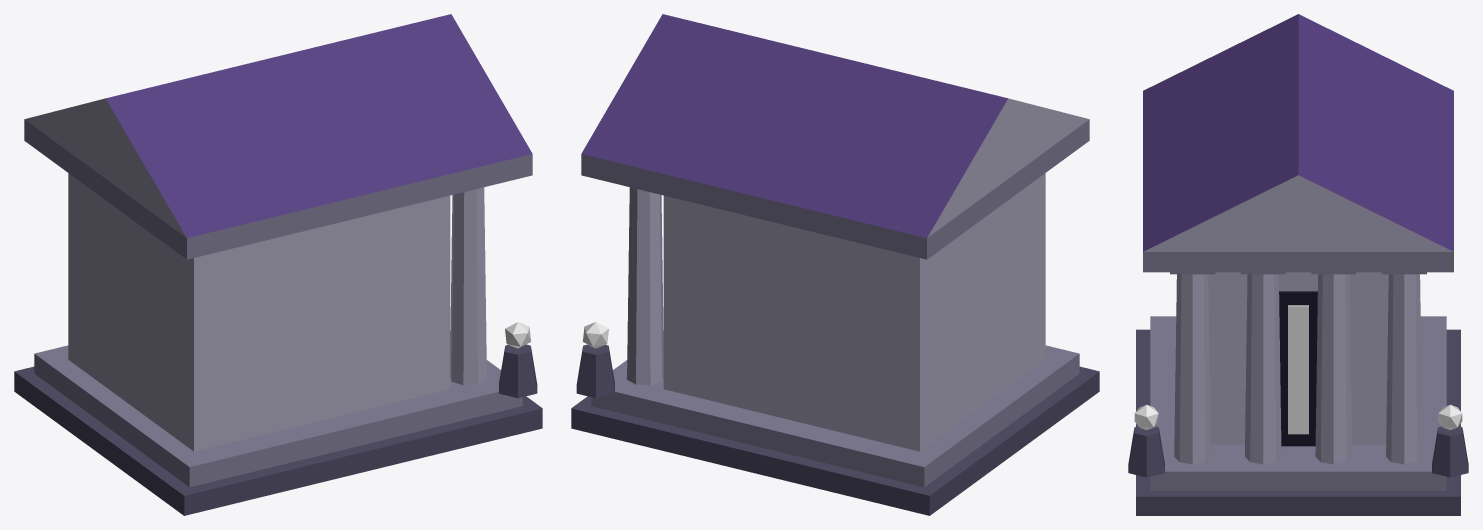
The model's file is Set_Mausoleum.fbx.
3 views of the same model, side by side, from view 1: azimuth 30°, elevation 25°; view 2: azimuth 150°, elevation 25°; view 3: azimuth 270°, elevation 25° (orthographic). The views are drawn at different scales.
Parts seen in each view (by area): view 1: Set_Mausoleum; view 2: Set_Mausoleum; view 3: Set_Mausoleum.
Part boxes in pixels (bbox=[...]): Set_Mausoleum: bbox=[14, 14, 542, 515]; Set_Mausoleum: bbox=[571, 14, 1099, 515]; Set_Mausoleum: bbox=[1128, 14, 1468, 515].
Size of what is drawn, in the model's own units: 5.6 by 5.28 by 4.82.
Materials: 2 (1 with a texture image).
